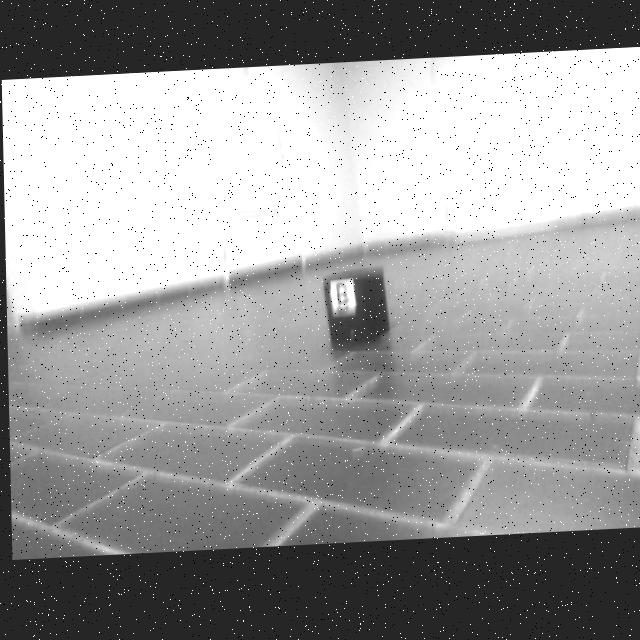B: (334, 285, 348, 309)
